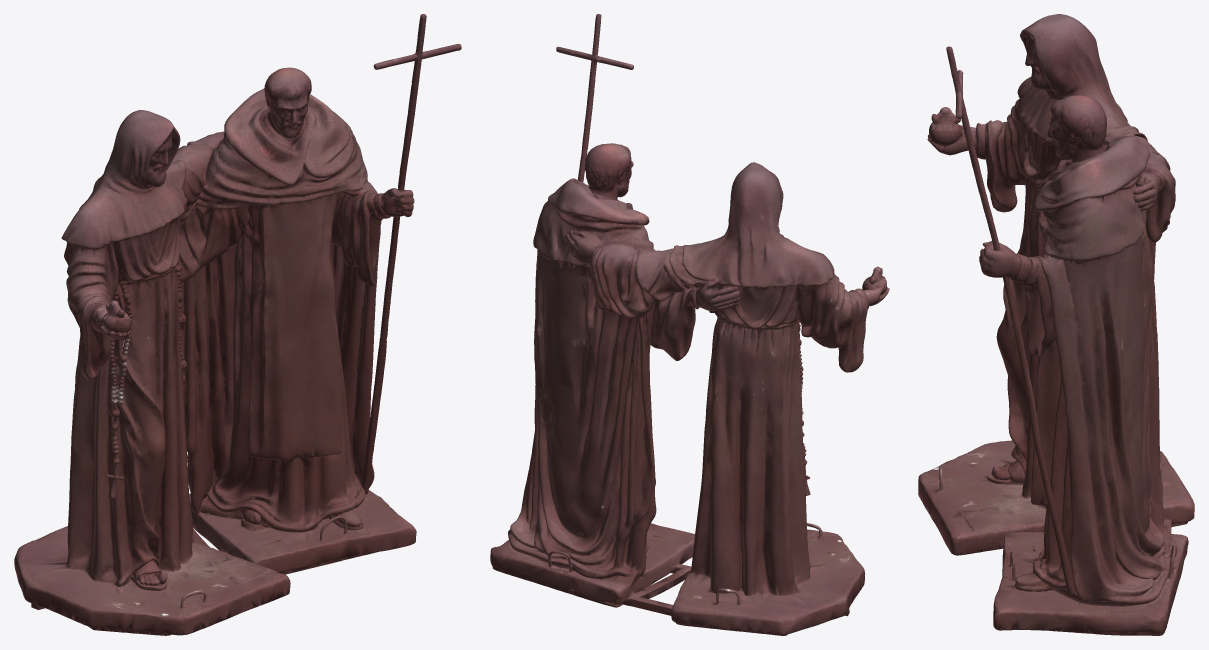
Rendered from obra-08-francisco-y-domingo.glb.
The picture shows the model from 3 angles, left to right: view 1: azimuth 30°, elevation 25°; view 2: azimuth 150°, elevation 25°; view 3: azimuth 270°, elevation 25°; orthographic projection. The views are drawn at different scales.
Size of the model in its own units: 1.44 by 2 by 0.8647.
Materials: 1 (1 with a texture image).
